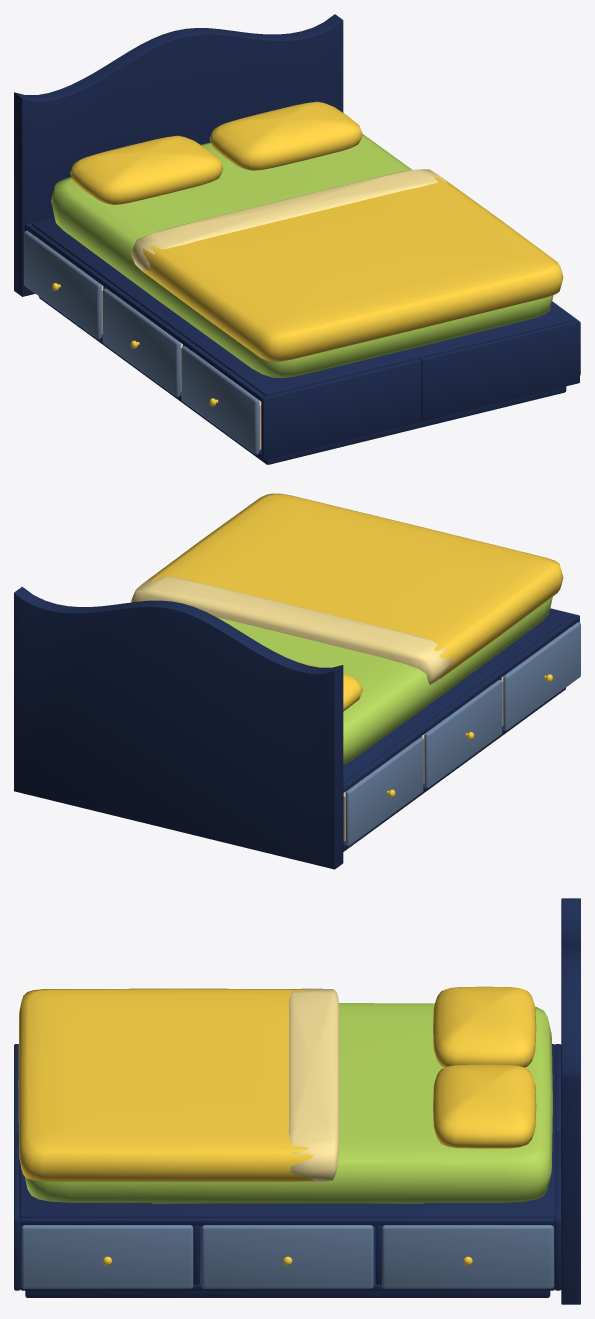
File: cama_casal_gavetas_azul.glb
3 views of the same model, one above another, from view 1: azimuth 30°, elevation 25°; view 2: azimuth 150°, elevation 25°; view 3: azimuth 270°, elevation 25° (orthographic). The views are drawn at different scales.
Parts seen in each view (by area): view 1: cama_casal_gavetas_azul, gaveta_1, gaveta_2, gaveta_3; view 2: cama_casal_gavetas_azul, gaveta_3, gaveta_2, gaveta_1; view 3: cama_casal_gavetas_azul, gaveta_4, gaveta_5, gaveta_6.
Part boxes in pixels (x1=…): cama_casal_gavetas_azul: x1=14, y1=14, x2=579, y2=464; gaveta_1: x1=181, y1=346, x2=261, y2=454; gaveta_2: x1=102, y1=288, x2=182, y2=397; gaveta_3: x1=24, y1=231, x2=103, y2=339; cama_casal_gavetas_azul: x1=14, y1=493, x2=579, y2=869; gaveta_3: x1=343, y1=737, x2=423, y2=845; gaveta_2: x1=421, y1=680, x2=502, y2=788; gaveta_1: x1=501, y1=622, x2=580, y2=730; cama_casal_gavetas_azul: x1=14, y1=898, x2=580, y2=1304; gaveta_4: x1=21, y1=1225, x2=193, y2=1288; gaveta_5: x1=201, y1=1225, x2=373, y2=1288; gaveta_6: x1=382, y1=1225, x2=553, y2=1288.
Size of the model in its own units: 1.62 by 1 by 2.03.
1 material, 1 textured.
